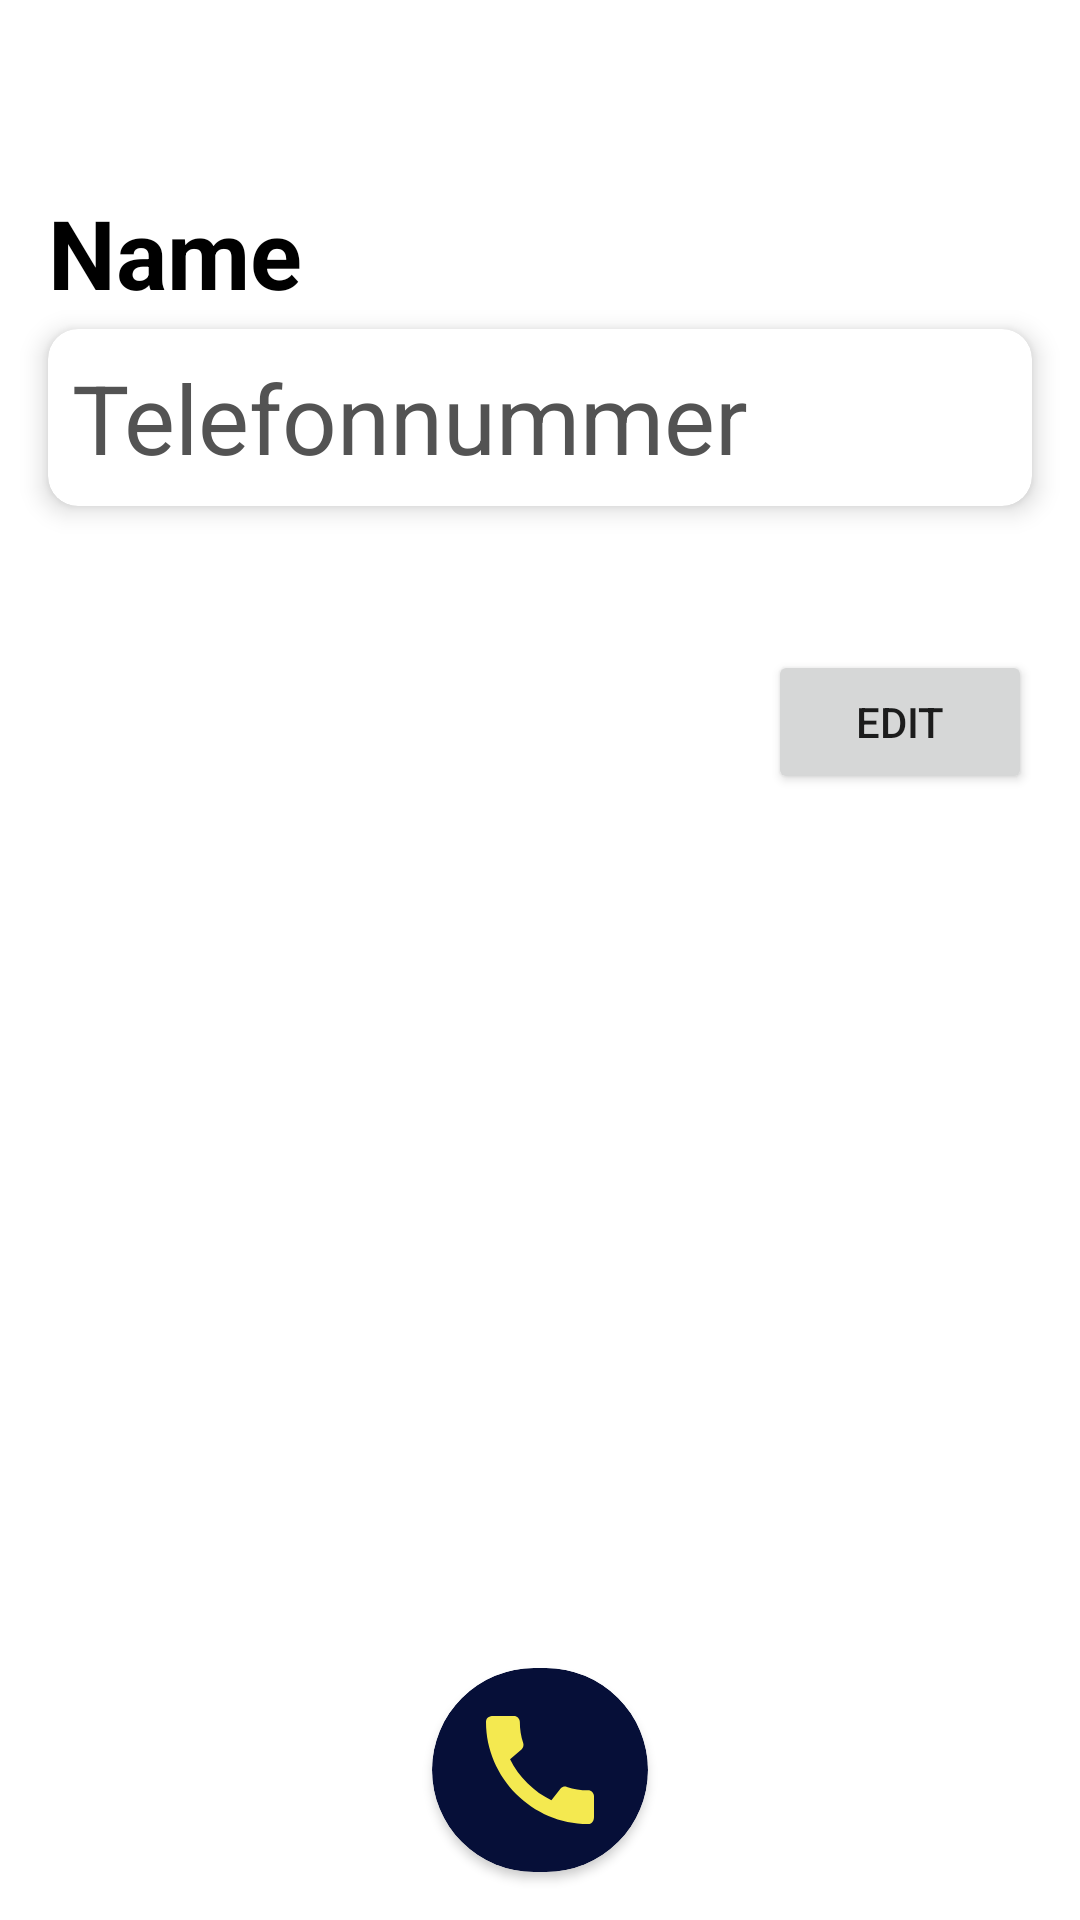

Where icons sit on this 1080w x 1920h app screen, as {"left": x1, "top": y1, "right": x2, "bottom": y2}:
call: {"left": 432, "top": 1668, "right": 648, "bottom": 1872}
